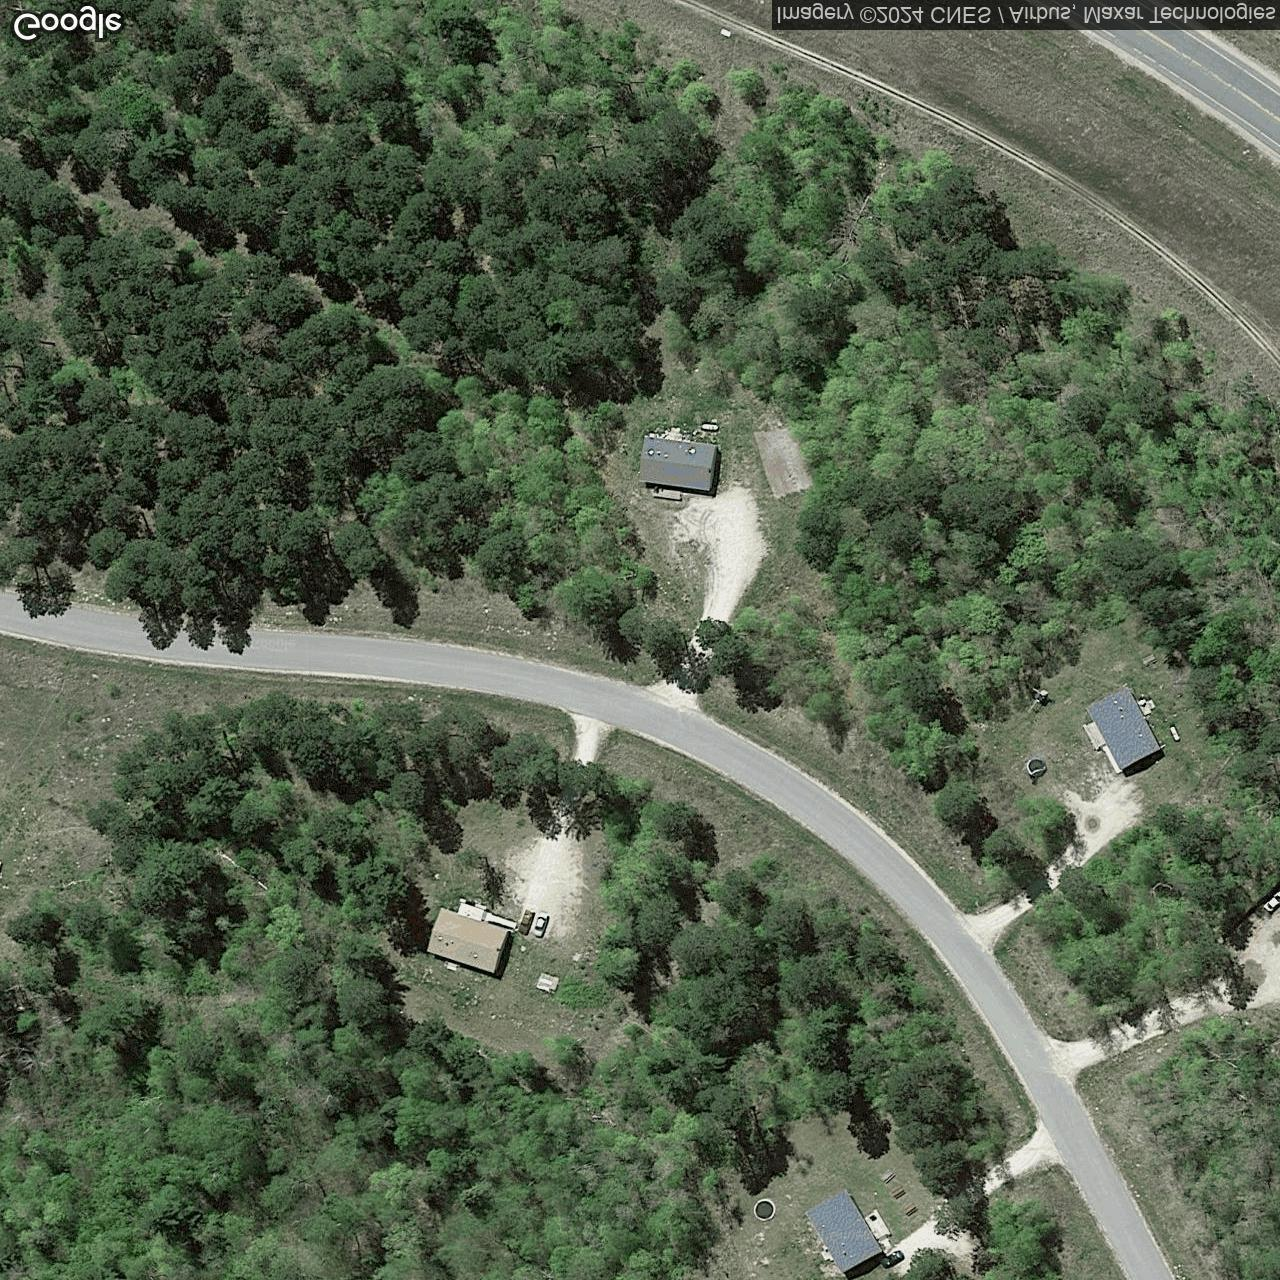House: (804, 1186, 886, 1275), (1084, 685, 1163, 772), (427, 906, 511, 975), (638, 435, 720, 493)
Propane: (1167, 722, 1184, 743), (700, 421, 720, 435)
